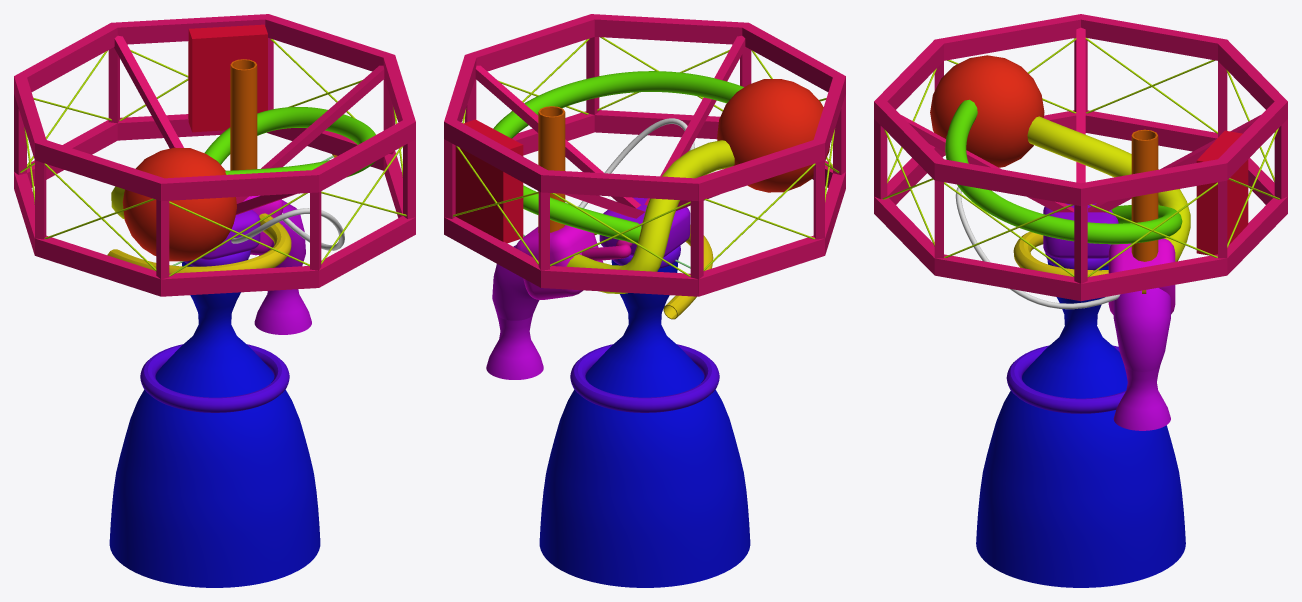
3 views of the same model, side by side, from view 1: azimuth 30°, elevation 25°; view 2: azimuth 150°, elevation 25°; view 3: azimuth 270°, elevation 25° (orthographic).
Parts seen in each view (by area): view 1: support, nozzle, moteur; view 2: support, nozzle, moteur; view 3: support, nozzle, moteur.
Boxes of the visible parts, x1,y1,x2,y2 form: support: (14,14,415,296); nozzle: (109,259,320,587); moteur: (107,59,375,334); support: (444,14,845,296); nozzle: (539,258,750,587); moteur: (486,71,829,379); support: (874,14,1287,301); nozzle: (976,260,1185,587); moteur: (930,55,1190,430).
Bounding box in the file's own units: 2.47 × 2.91 × 2.47.
